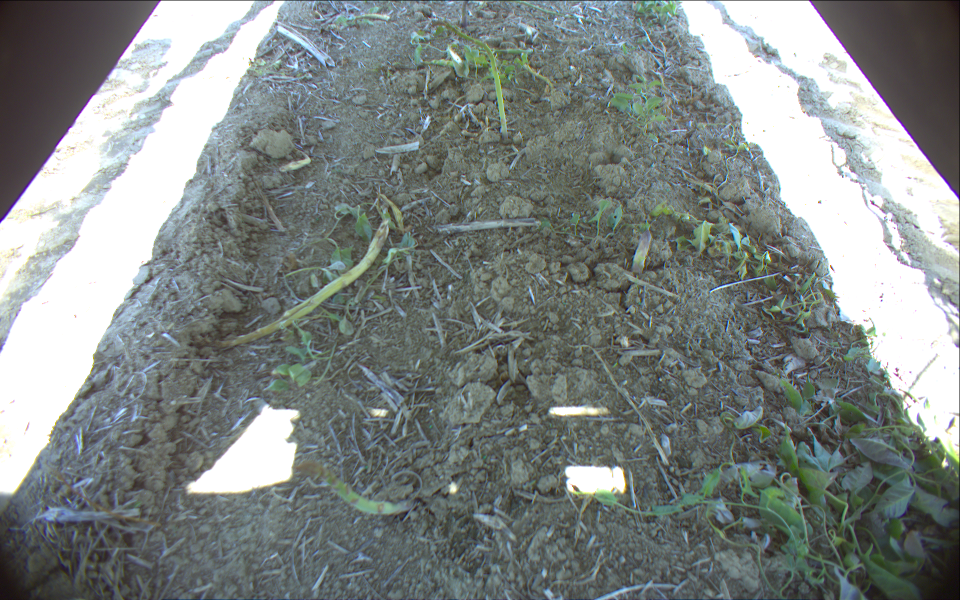aspa: (419, 17, 514, 143), (291, 457, 421, 519)
